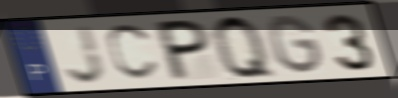3: (322, 12, 377, 73)
C: (104, 22, 161, 83)
G: (265, 13, 327, 76)
J: (63, 23, 108, 86)
P: (156, 17, 211, 83)
Q: (210, 12, 280, 82)
